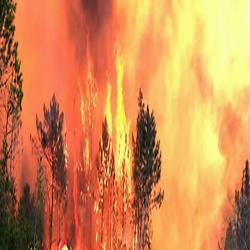fire: (104, 58, 130, 137)
